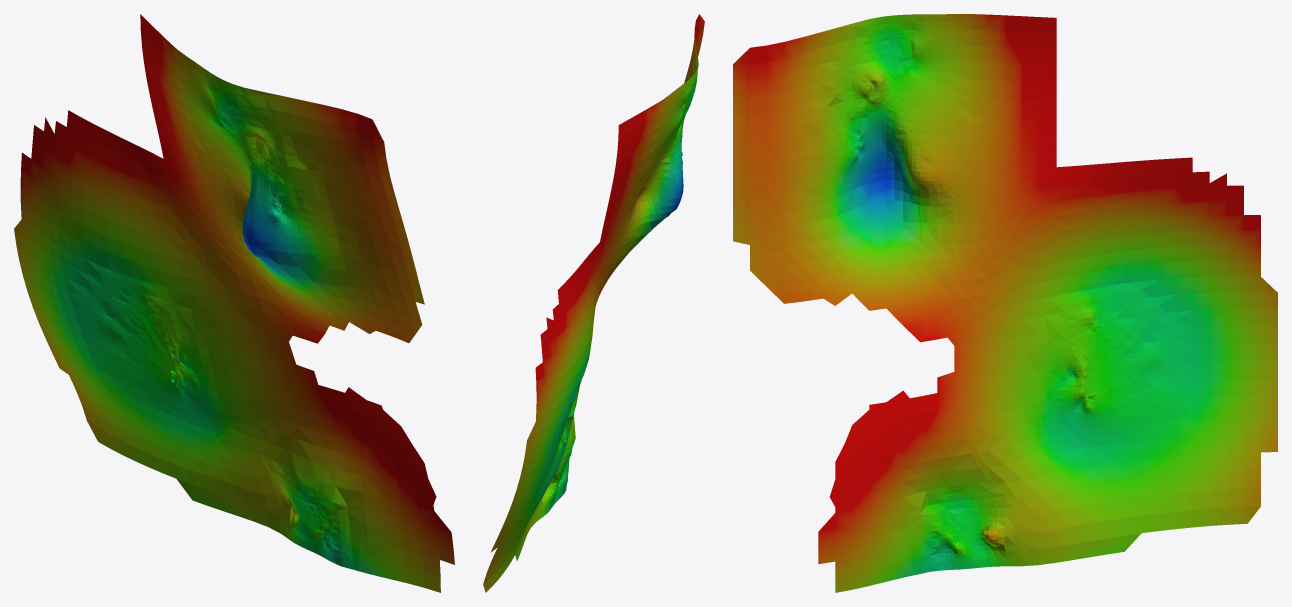
3 views of the same model, side by side, from view 1: azimuth 30°, elevation 25°; view 2: azimuth 150°, elevation 25°; view 3: azimuth 270°, elevation 25° (orthographic). The views are drawn at different scales.
Parts seen in each view (by area): view 1: geometry_0; view 2: geometry_0; view 3: geometry_0.
Boxes of the visible parts, <box> form: geometry_0: <box>14,14,454,592</box>; geometry_0: <box>483,14,704,592</box>; geometry_0: <box>733,14,1277,592</box>.
Size of the model in its own units: 0.4696 by 1.24 by 1.24.
